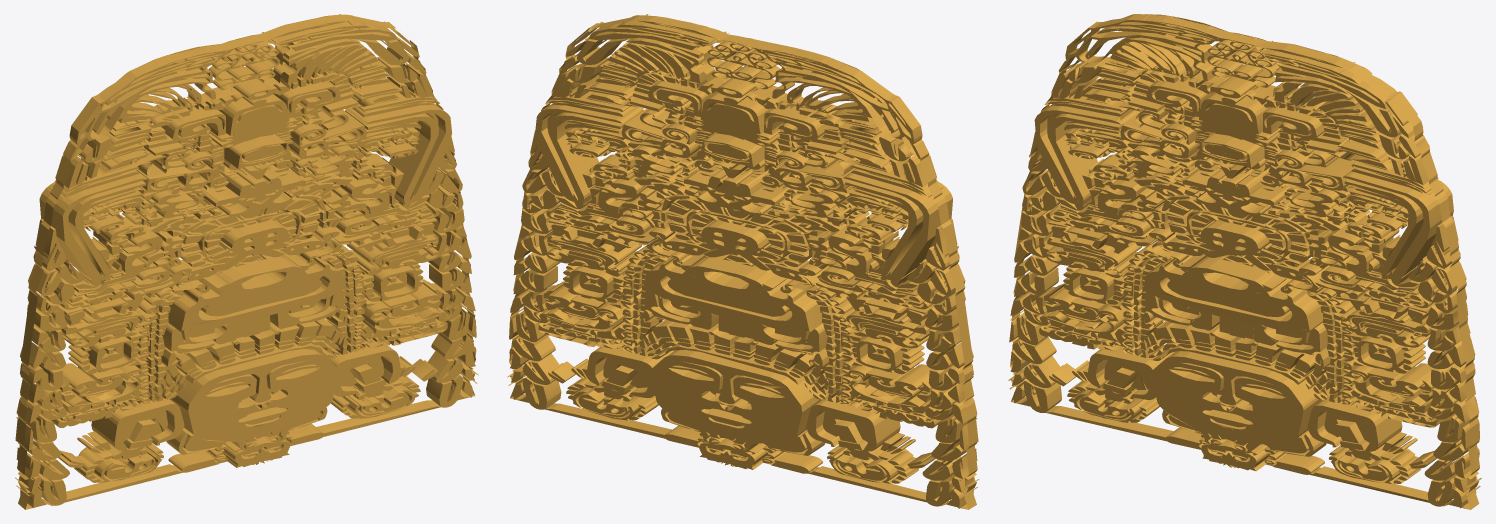
The model's file is templegoldpeice1.glb.
3 views of the same model, side by side, from view 1: azimuth 30°, elevation 25°; view 2: azimuth 150°, elevation 25°; view 3: azimuth 330°, elevation 25° (orthographic).
Visible parts, largest first — view 1: Selection.981; view 2: Selection.981; view 3: Selection.981.
Boxes of the visible parts, x1=… form: Selection.981: x1=15, y1=14, x2=478, y2=509; Selection.981: x1=507, y1=14, x2=979, y2=509; Selection.981: x1=1008, y1=14, x2=1481, y2=509.
Bounding box in the file's own units: 0.6913 × 0.6031 × 0.0965.
